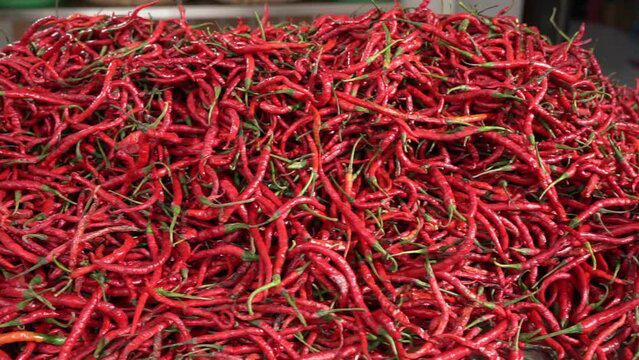Cabai: (197, 84, 451, 295)
